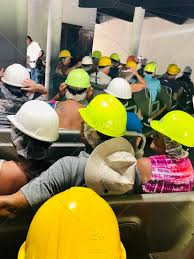Person_wearing_helmet: (58, 63, 92, 96)
